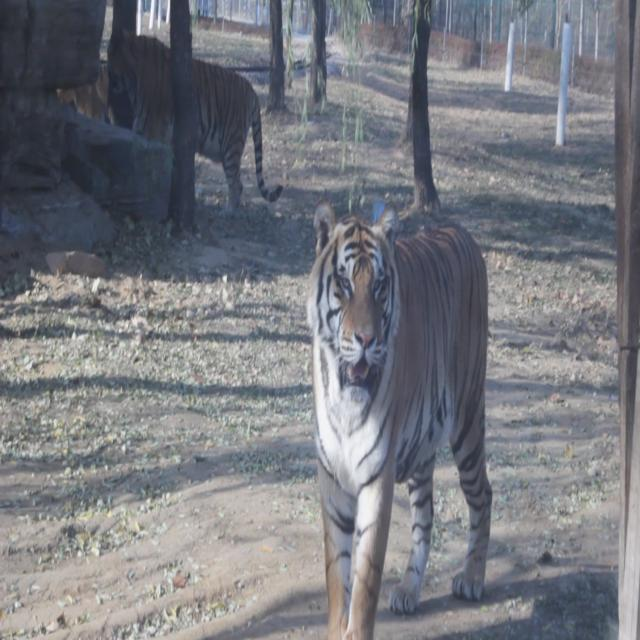Tiger: (294, 184, 497, 639), (108, 24, 289, 225)
